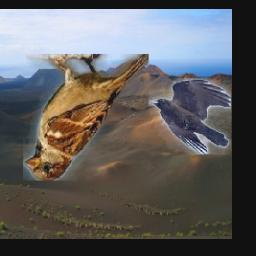Crow: (149, 79, 231, 155)
Sparrow: (24, 55, 150, 181)
